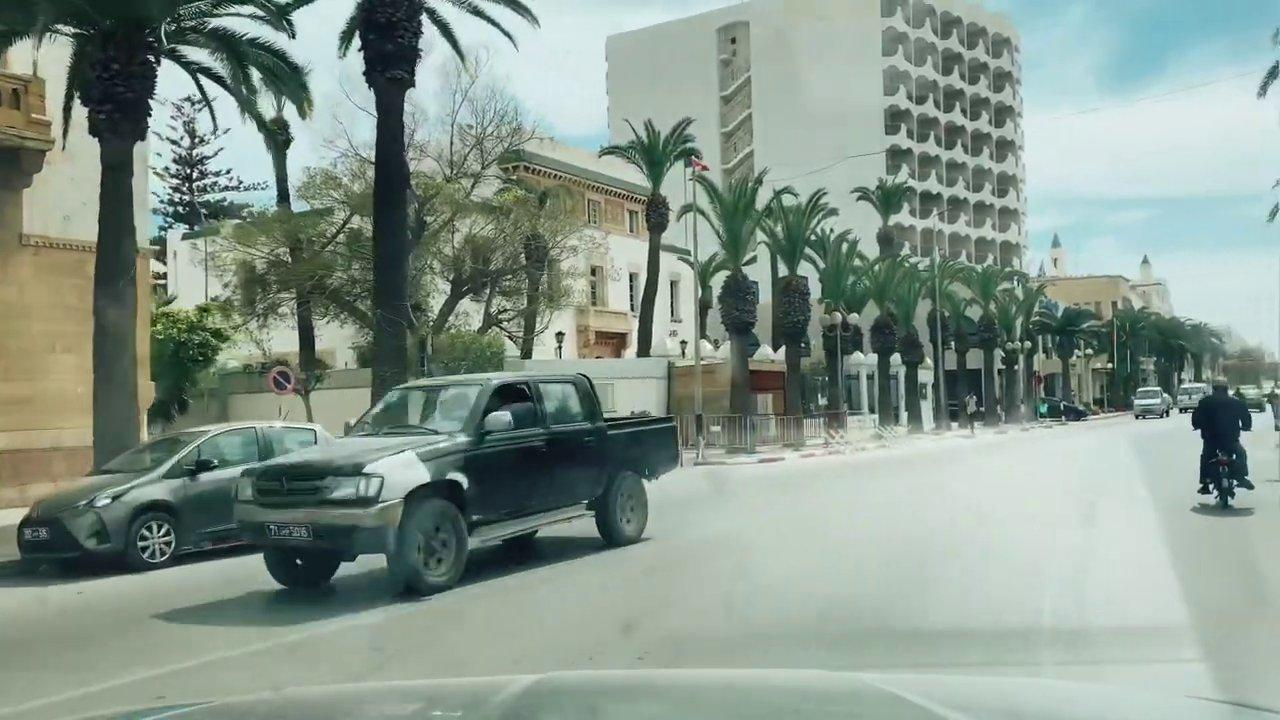no parking: (268, 364, 296, 397)
